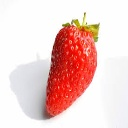strawberry: (44, 13, 100, 119)
